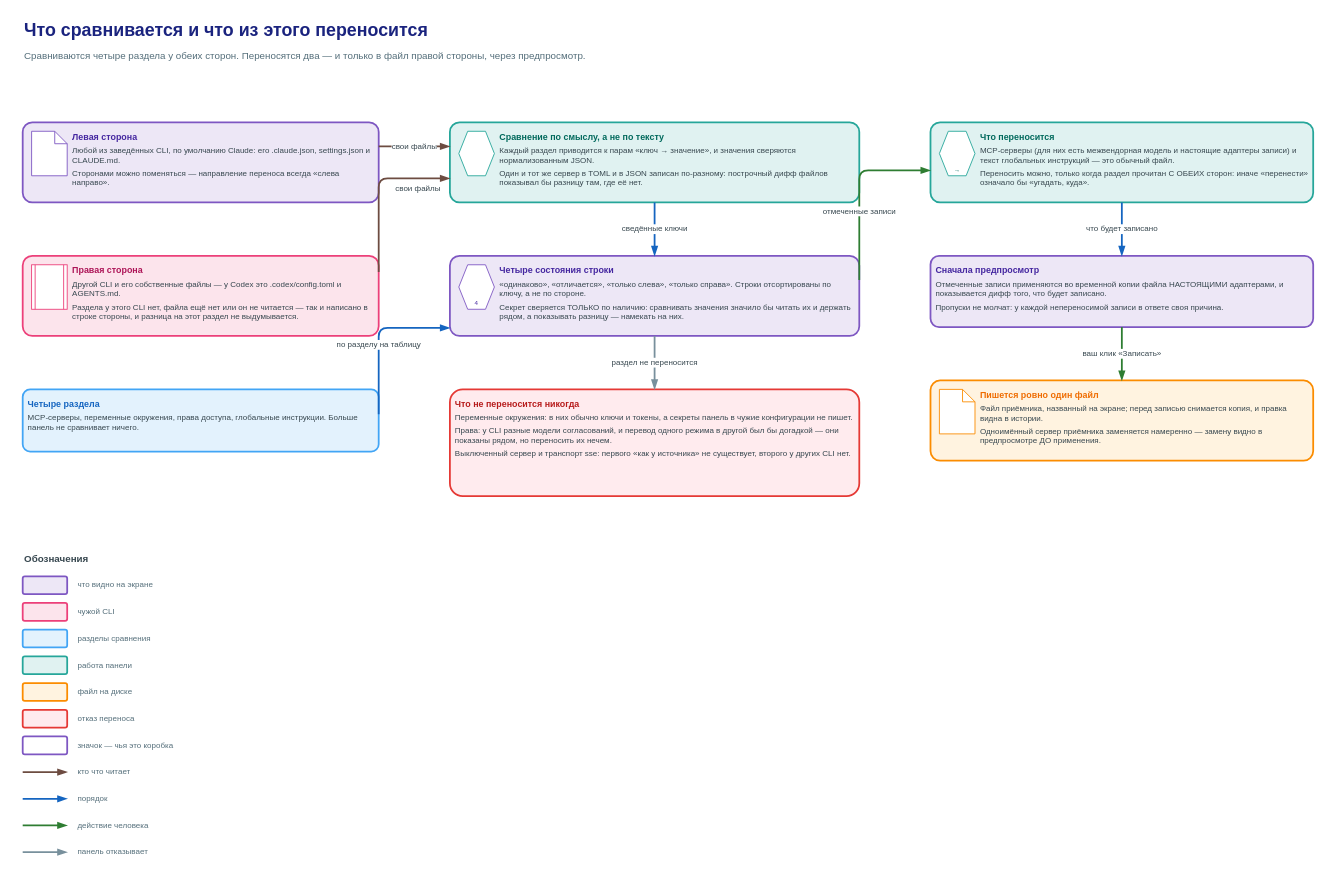
Some shapes in this 1329 by 876 pixel diagram are drawn without their labels. Each missing label, with the box of its shape:
запись: (939, 388, 975, 434)
ключ: (458, 130, 494, 176)
слева: (31, 130, 67, 176)
справа: (31, 264, 67, 309)
